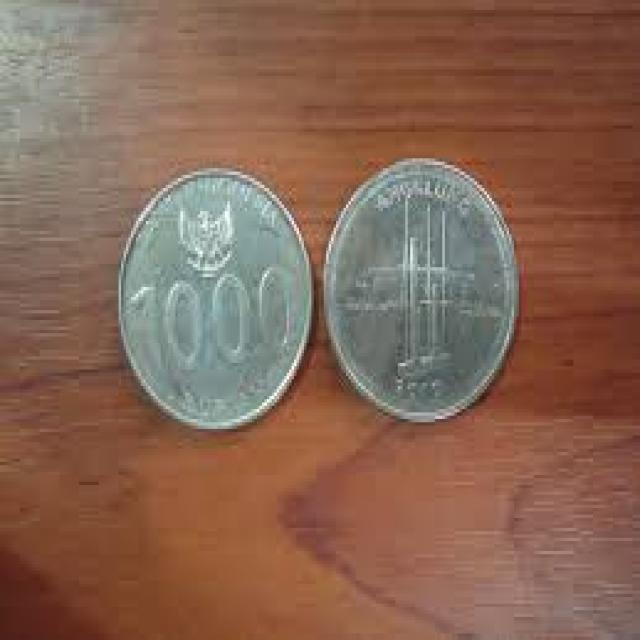coin_1000_e2010: (117, 165, 315, 443), (329, 152, 524, 432)
